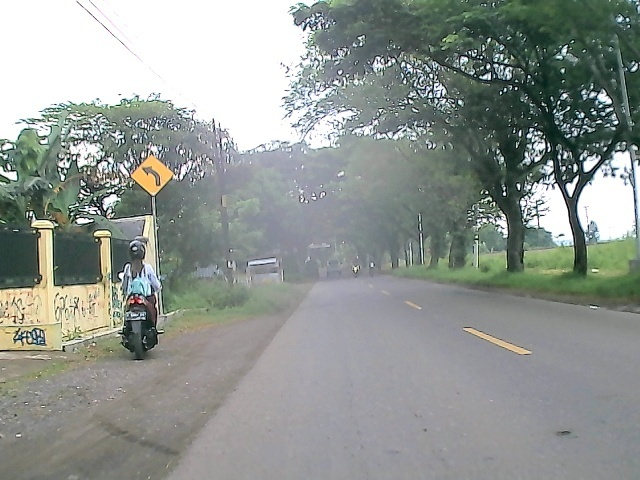Tikungan ke kiri: (130, 154, 175, 196)
